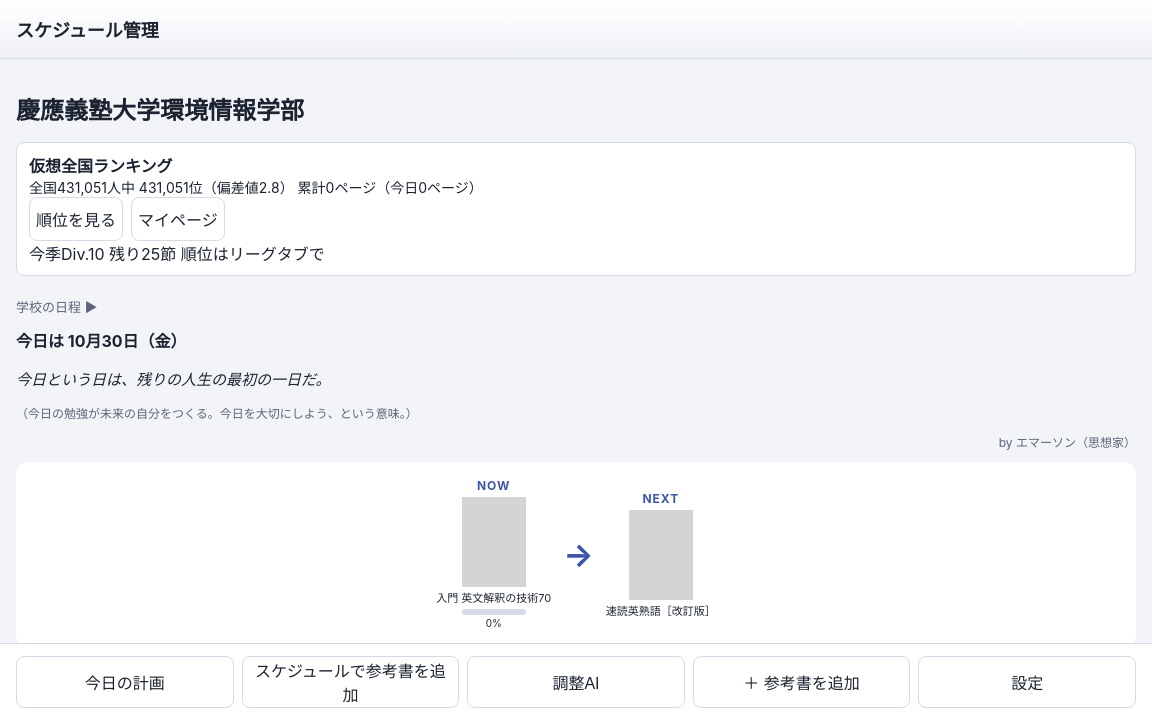
Test case: navigates to the ranking screen from home via ranking open
This screenshot has width=1152, height=720.
Step 1. Click the button with test id "ranking-open" → (76, 219), box [29,197,123,241]
(page scrolled)
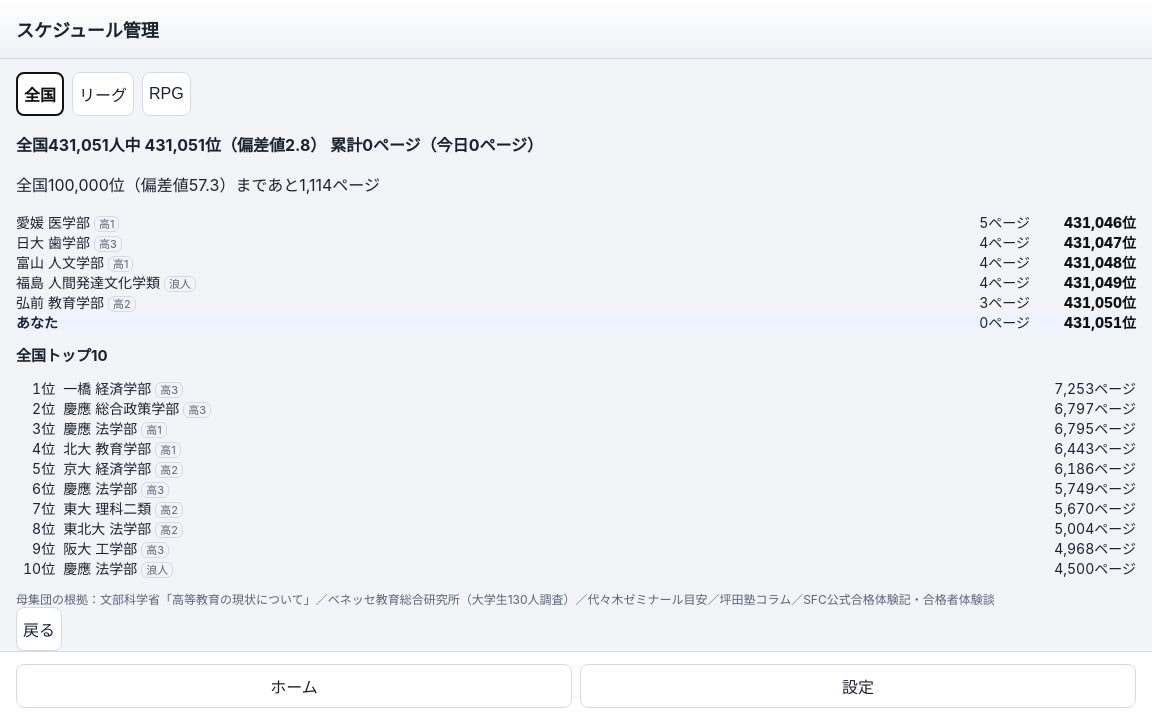
Expected: the element with test id "ranking-page" is shown
